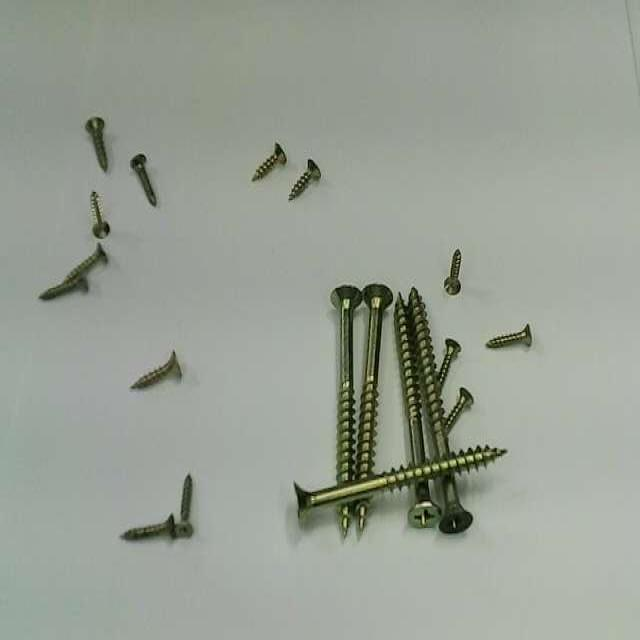Parafuso: (294, 447, 506, 516), (356, 284, 392, 477), (410, 287, 449, 456), (331, 285, 361, 484), (395, 293, 425, 464), (131, 351, 181, 388), (440, 476, 472, 531), (123, 515, 178, 544), (65, 243, 107, 280), (409, 480, 439, 527), (252, 141, 285, 180), (131, 153, 156, 204), (289, 159, 320, 199), (446, 389, 473, 433), (85, 116, 106, 171), (176, 476, 194, 536), (41, 276, 87, 299), (438, 339, 460, 387), (487, 324, 531, 347), (91, 193, 109, 237), (444, 249, 461, 293), (339, 504, 350, 536)
